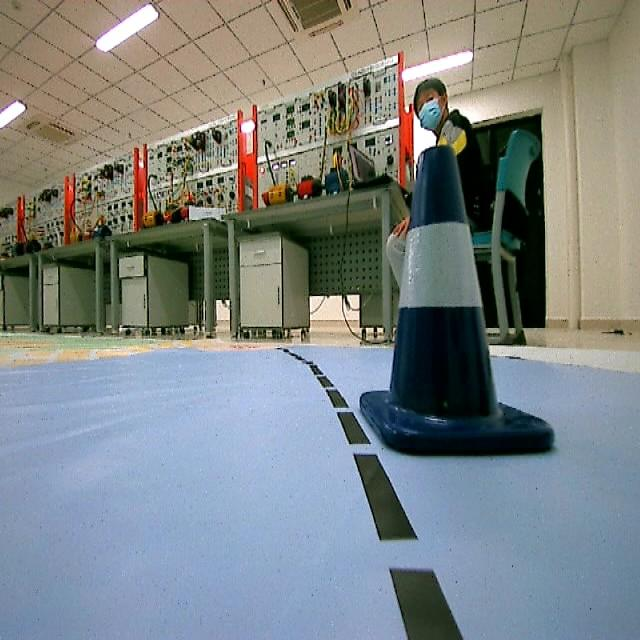obstacle: (386, 146, 564, 467)
